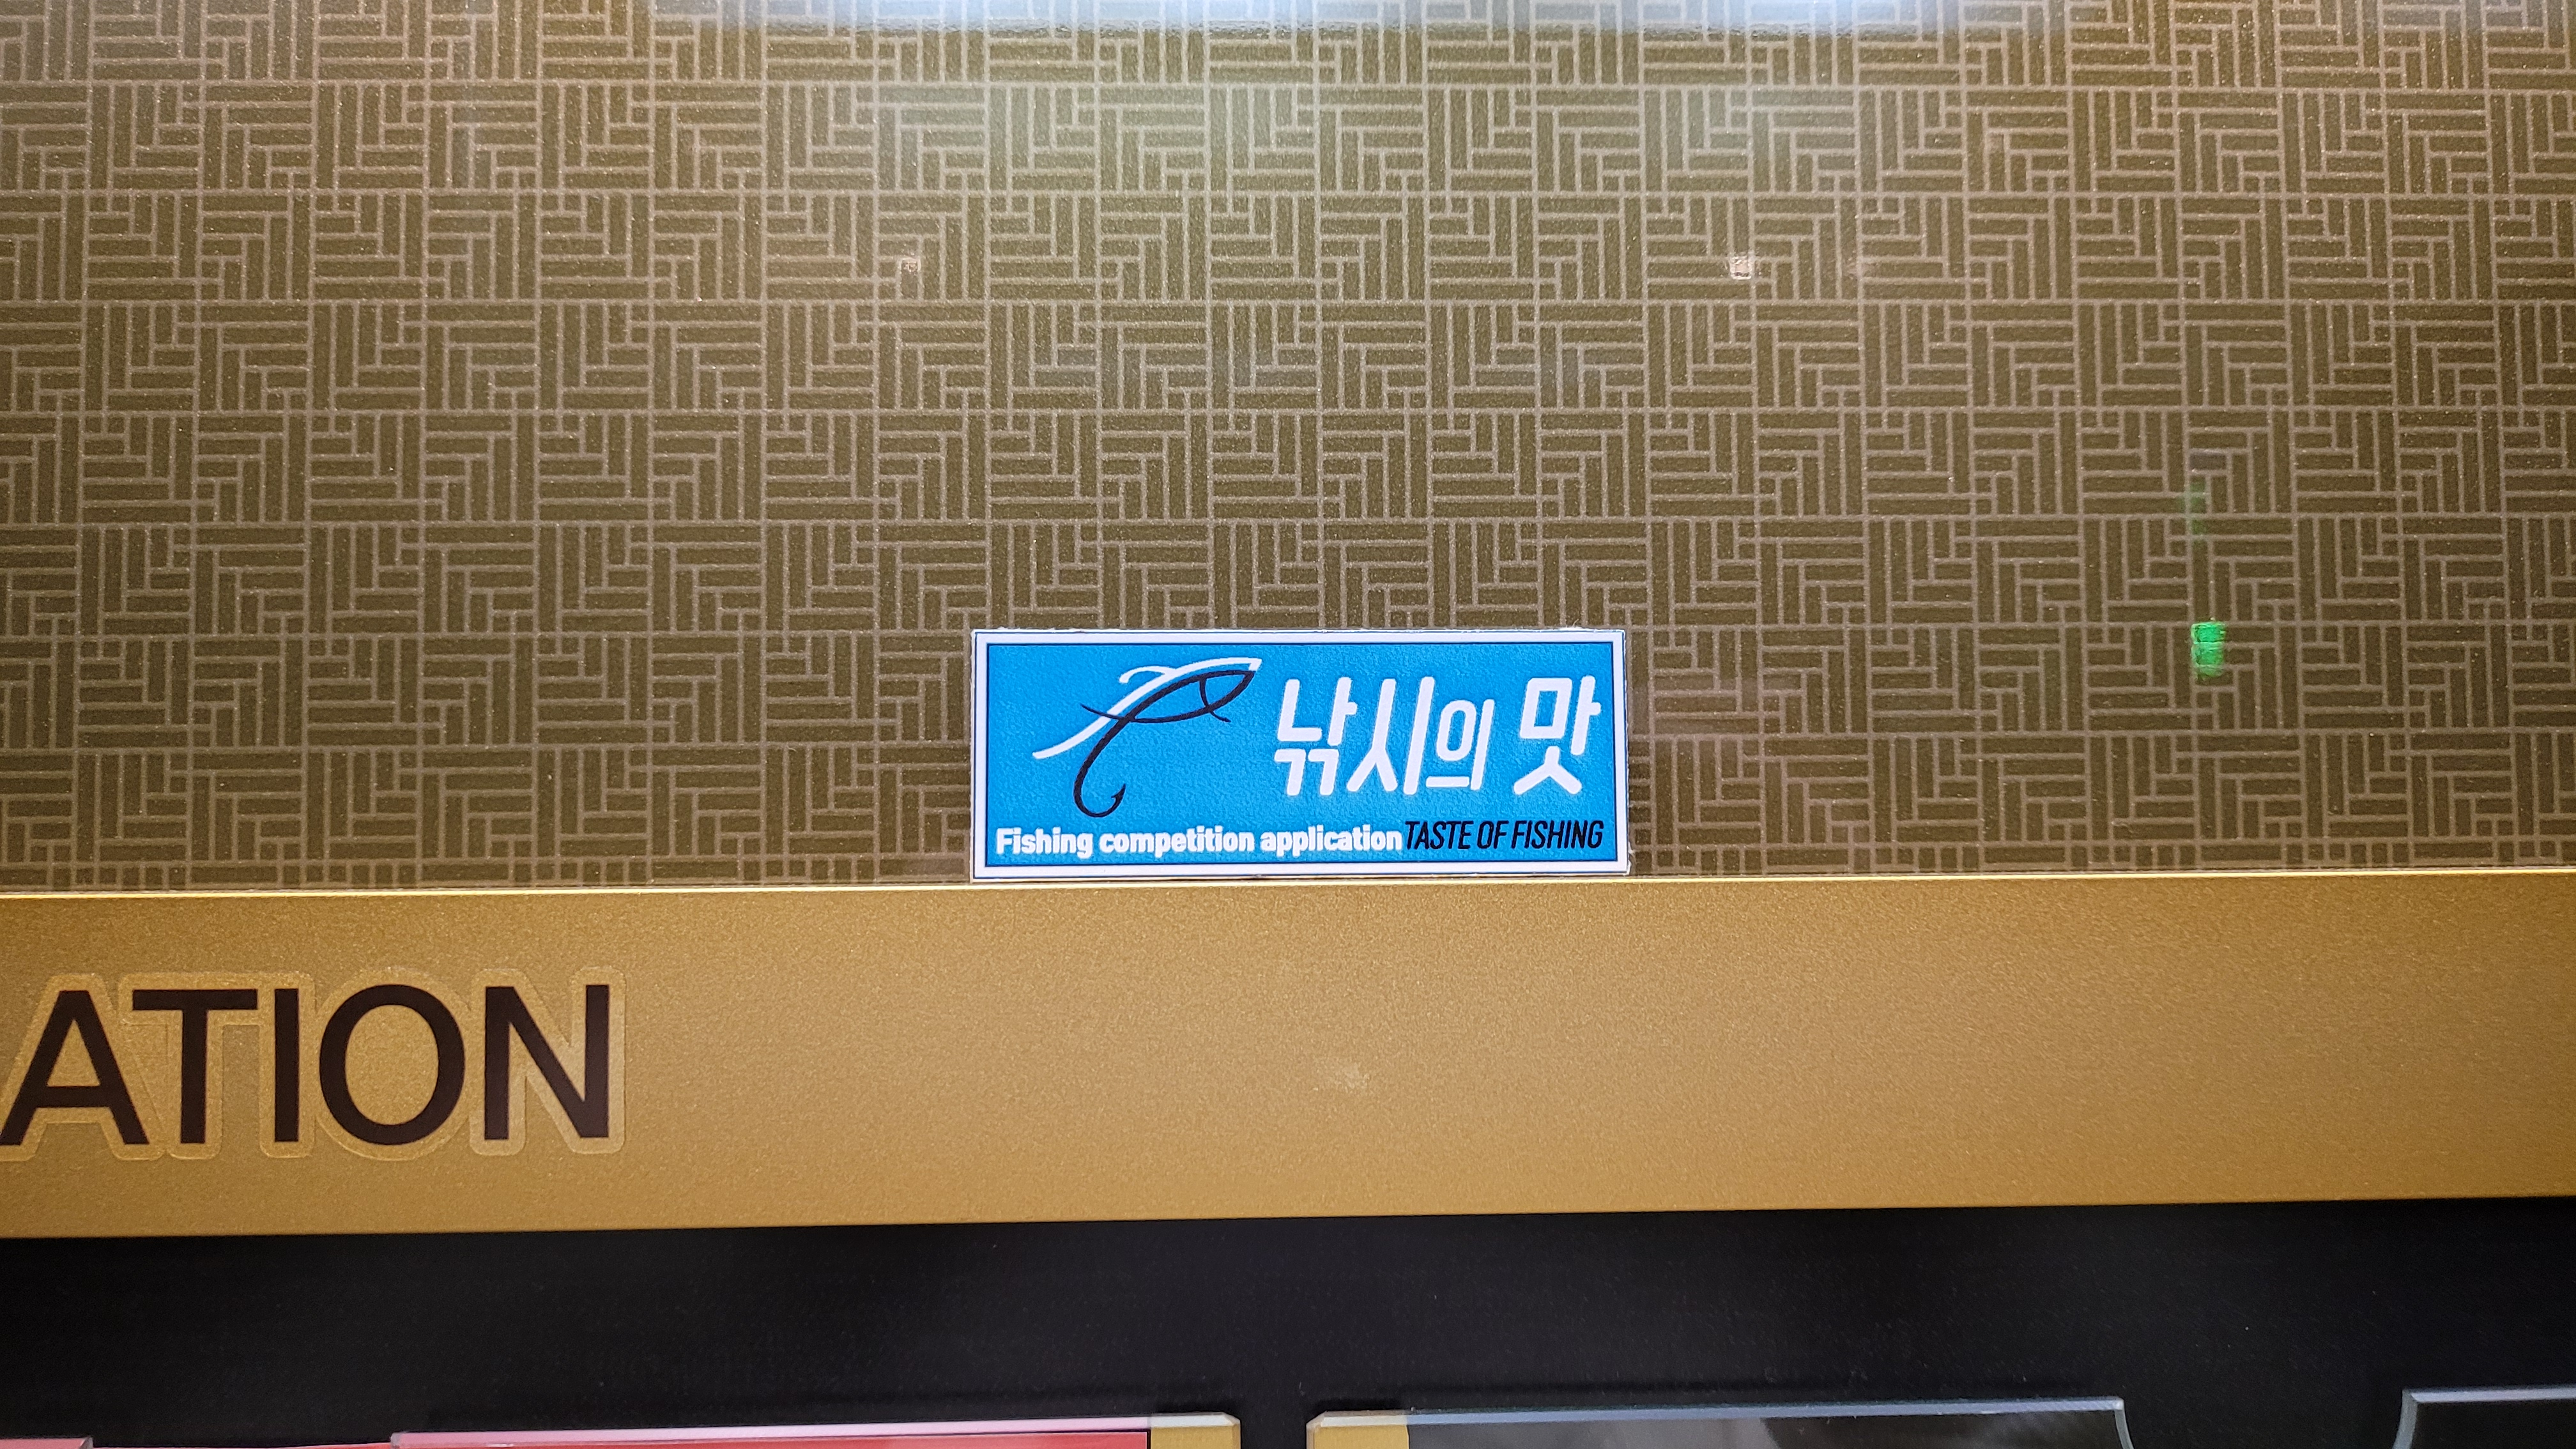tag: (971, 632, 1631, 878)
